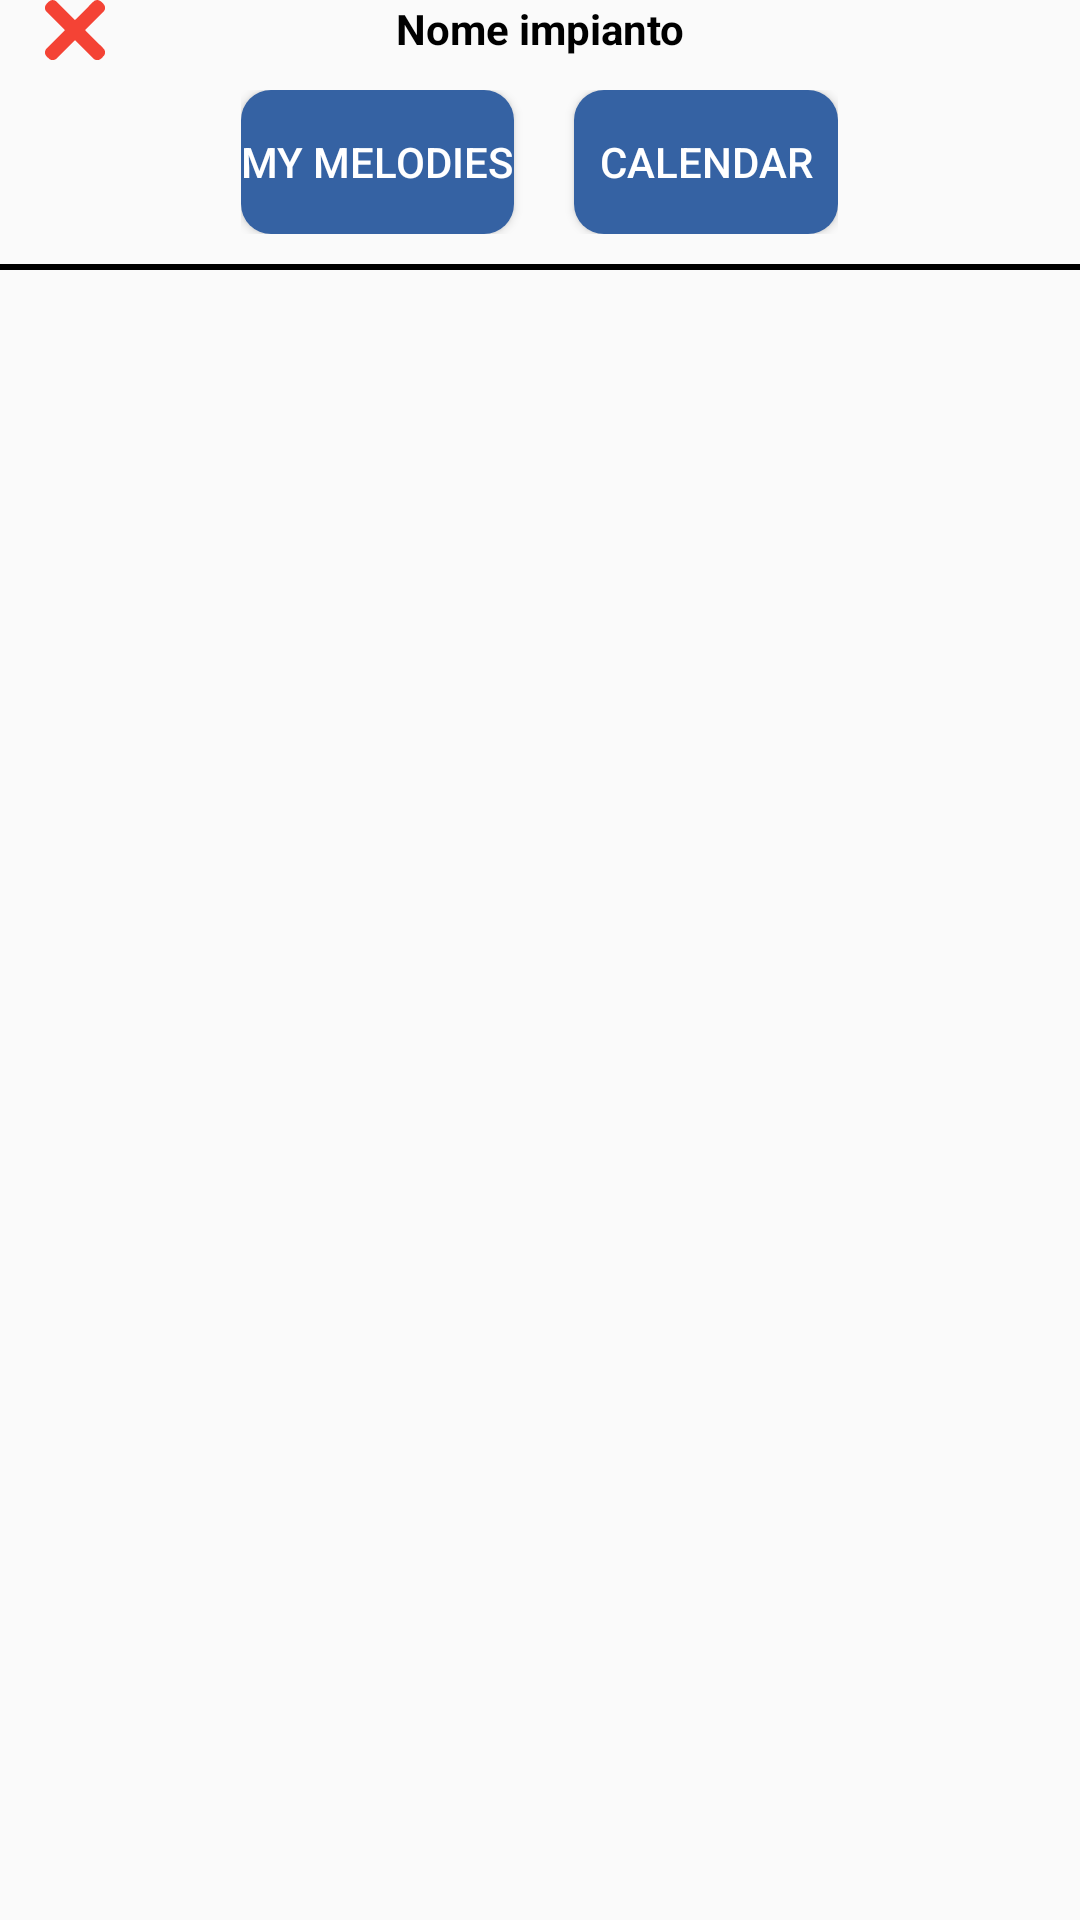

Icon click points for this 1080x1920 phone screenshot, format (x=x, y=y):
close: (x=75, y=30)
